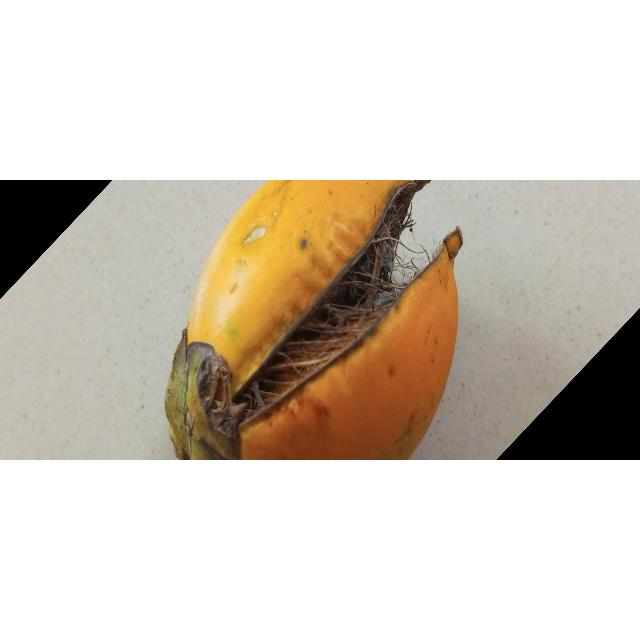damaged: (164, 180, 462, 461)
